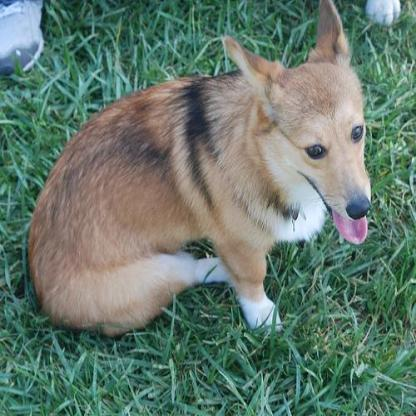Cardigan: (26, 0, 374, 342)
